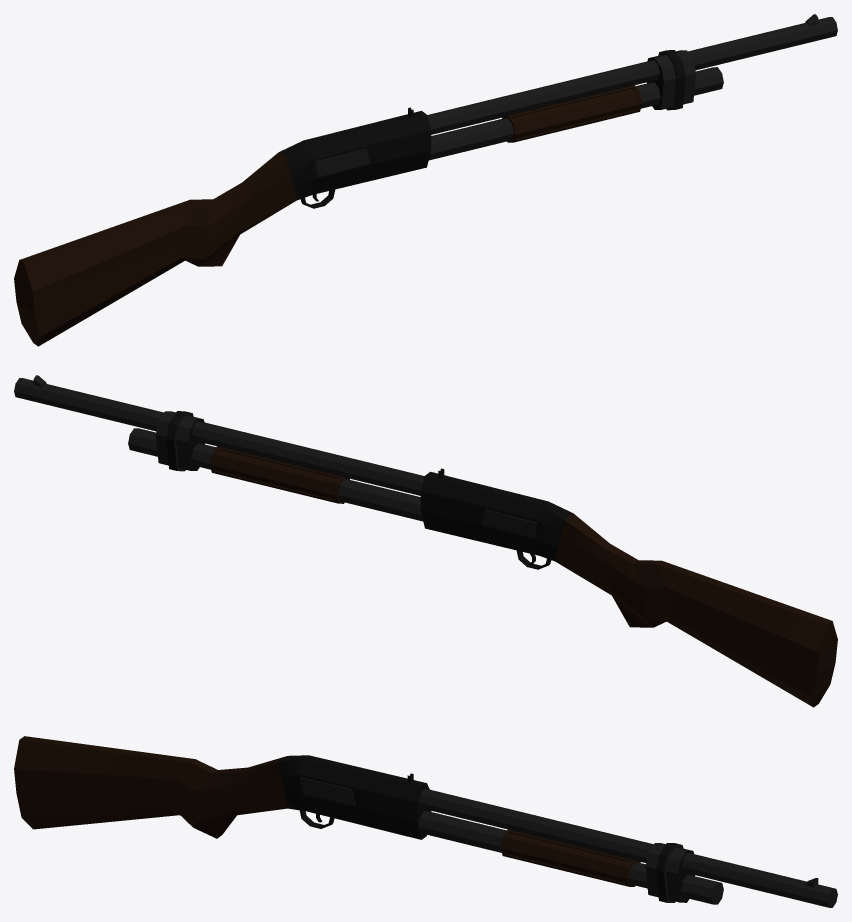
The model's file is gun.fbx.
The picture shows the model from 3 angles, top to bottom: view 1: azimuth 30°, elevation 25°; view 2: azimuth 150°, elevation 25°; view 3: azimuth 330°, elevation 25°; orthographic projection.
Parts seen in each view (by area): view 1: gun; view 2: gun; view 3: gun.
Part boxes in pixels (bbox=[...]): gun: bbox=[14, 14, 837, 346]; gun: bbox=[14, 375, 837, 707]; gun: bbox=[14, 736, 837, 907].
Bounding box in the file's own units: 96.6 × 16.44 × 4.45.
